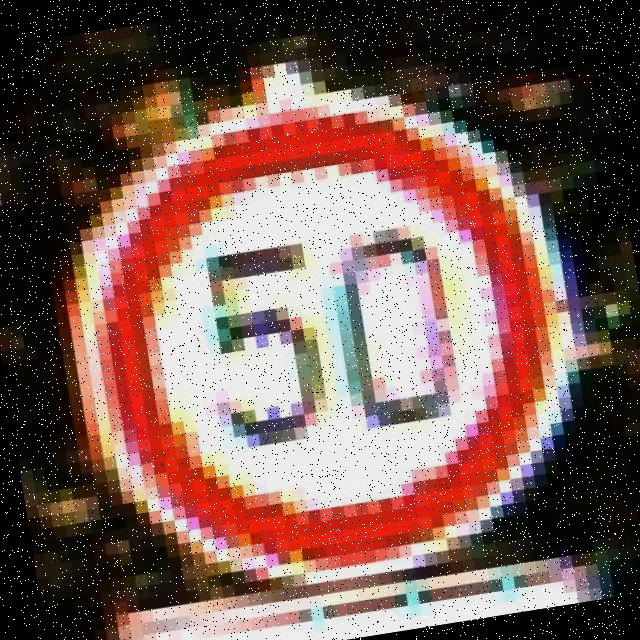Ograniczenie predkosci do 50: (57, 70, 600, 602)
